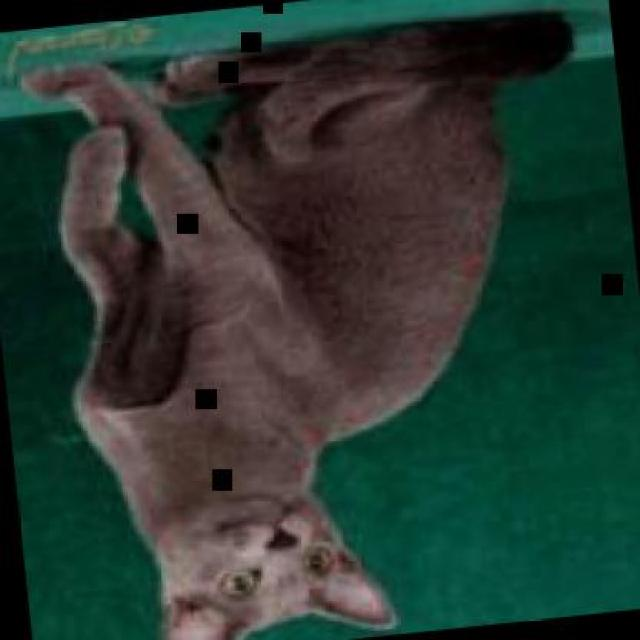cat: (14, 3, 638, 639)
